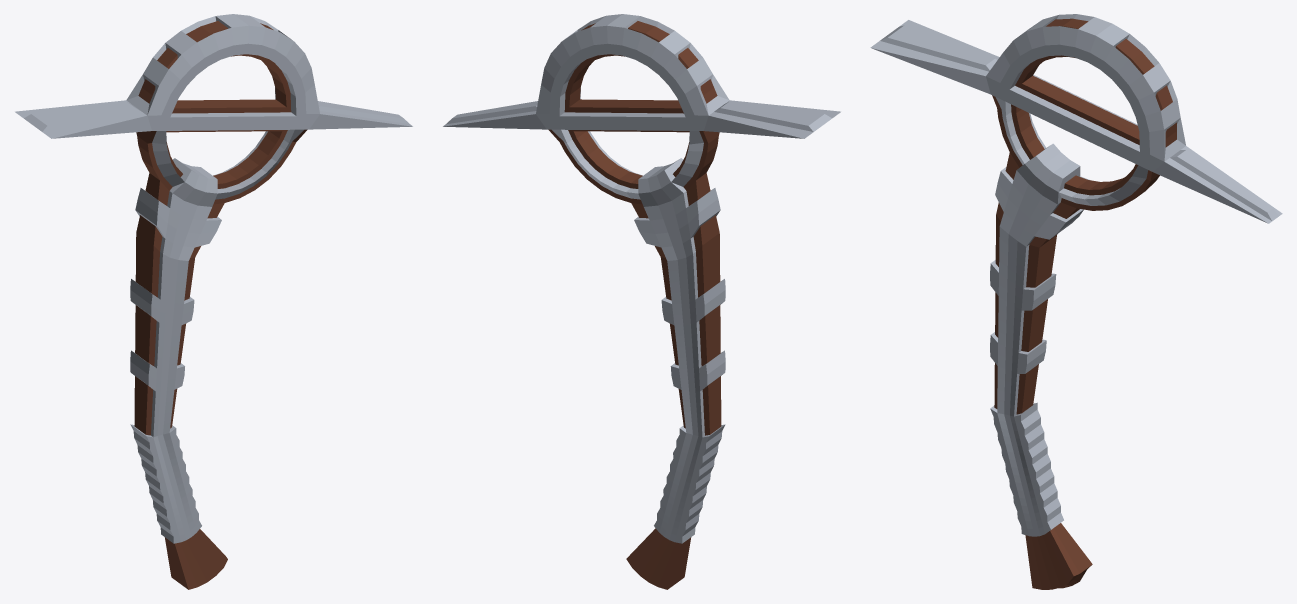
File: pickaxe 2 Fagerone.fbx
The picture shows the model from 3 angles, left to right: view 1: azimuth 30°, elevation 25°; view 2: azimuth 150°, elevation 25°; view 3: azimuth 330°, elevation 25°; orthographic projection. The views are drawn at different scales.
Parts seen in each view (by area): view 1: Cylinder.001; view 2: Cylinder.001; view 3: Cylinder.001.
Boxes of the visible parts, x1,y1,x2,y2 form: Cylinder.001: (15,14,412,589); Cylinder.001: (443,14,840,589); Cylinder.001: (870,14,1282,589).
Size of the model in its own units: 3.13 by 4.44 by 0.5395.
1 material, 1 textured.
